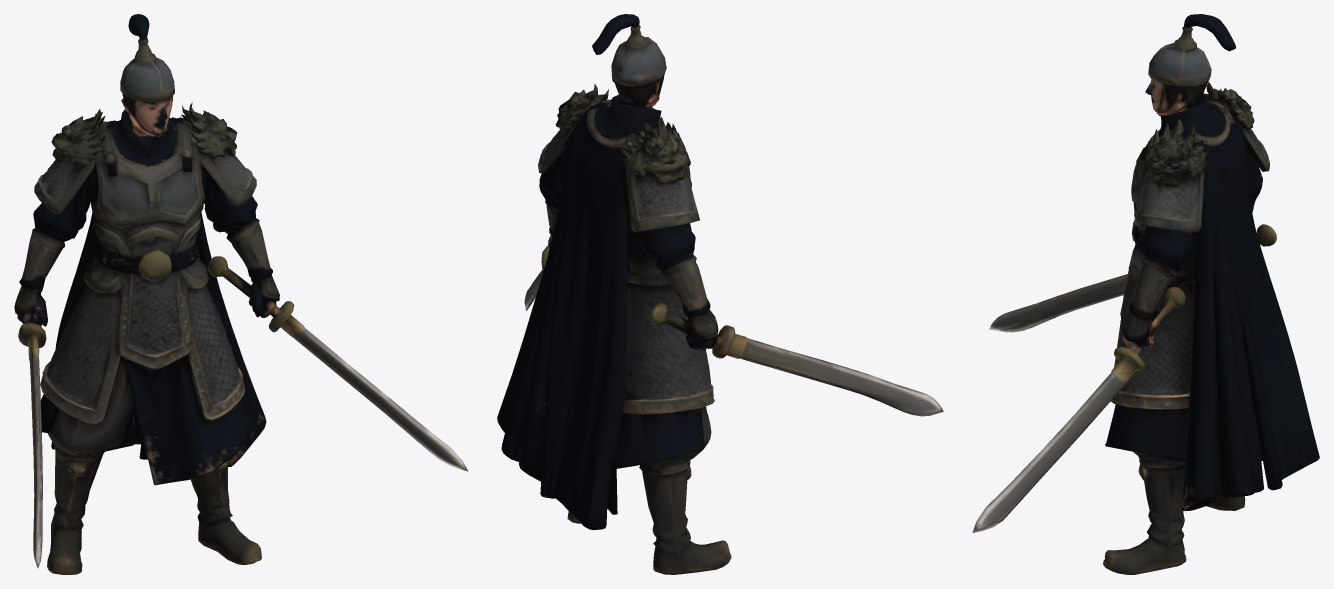
Rendered from guard-black-hy3-v1.glb.
The picture shows the model from 3 angles, left to right: view 1: azimuth 30°, elevation 25°; view 2: azimuth 150°, elevation 25°; view 3: azimuth 270°, elevation 25°; orthographic projection.
Visible parts, largest first — view 1: node_0; view 2: node_0; view 3: node_0.
Boxes of the visible parts, x1,y1,x2,y2 form: node_0: (14,14,468,574); node_0: (497,14,943,574); node_0: (972,14,1319,574).
Size of the model in its own units: 1.49 by 1.78 by 1.07.
1 material, 1 textured.
